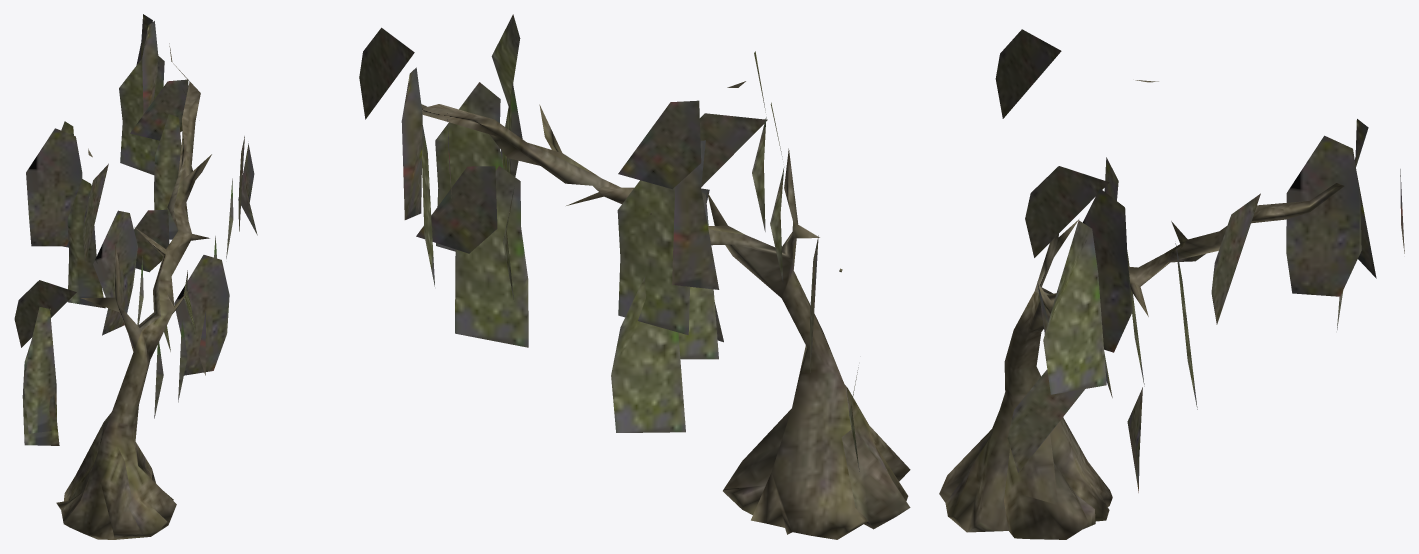
File: swamp-tree-b-map.glb
The picture shows the model from 3 angles, left to right: view 1: azimuth 30°, elevation 25°; view 2: azimuth 150°, elevation 25°; view 3: azimuth 270°, elevation 25°; orthographic projection. The views are drawn at different scales.
Visible parts, largest first — view 1: swamp_tree_b_LOD0; view 2: swamp_tree_b_LOD0; view 3: swamp_tree_b_LOD0.
Boxes of the visible parts, x1,y1,x2,y2 form: swamp_tree_b_LOD0: (14,14,257,539); swamp_tree_b_LOD0: (359,14,910,539); swamp_tree_b_LOD0: (939,29,1404,539).
Bounding box in the file's own units: 8.63 × 9.43 × 7.95.
Materials: 1 (1 with a texture image).
